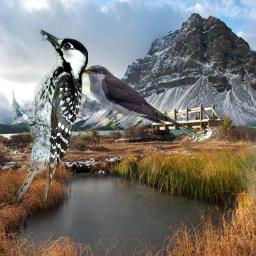Cuckoo: (78, 65, 202, 140)
Woodpecker: (12, 28, 88, 203)
